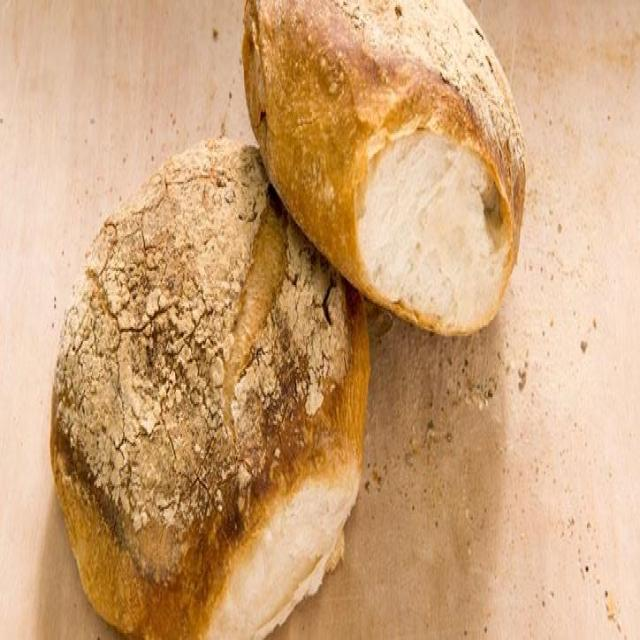Maltese-Bread: (50, 138, 370, 638), (242, 0, 525, 332)
